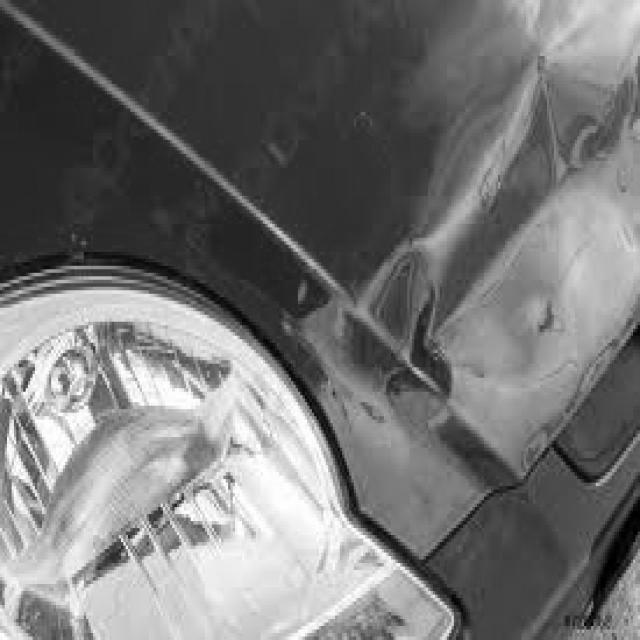bonnet-dent: (301, 0, 640, 438)
